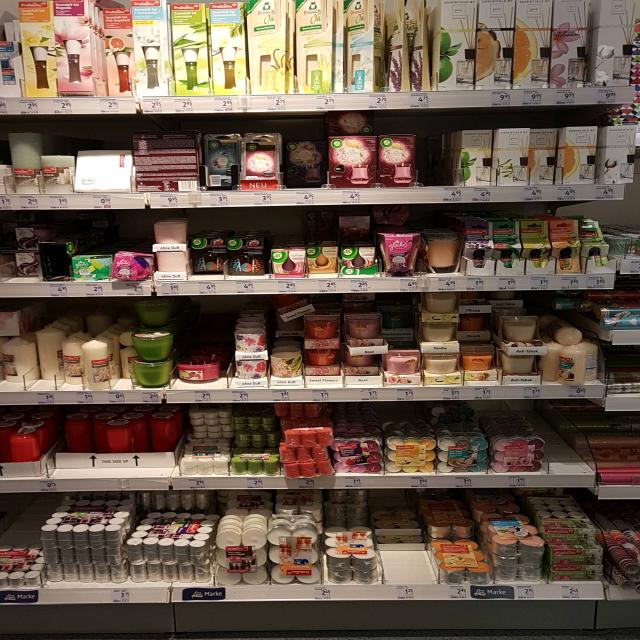empty: (548, 403, 590, 483)
